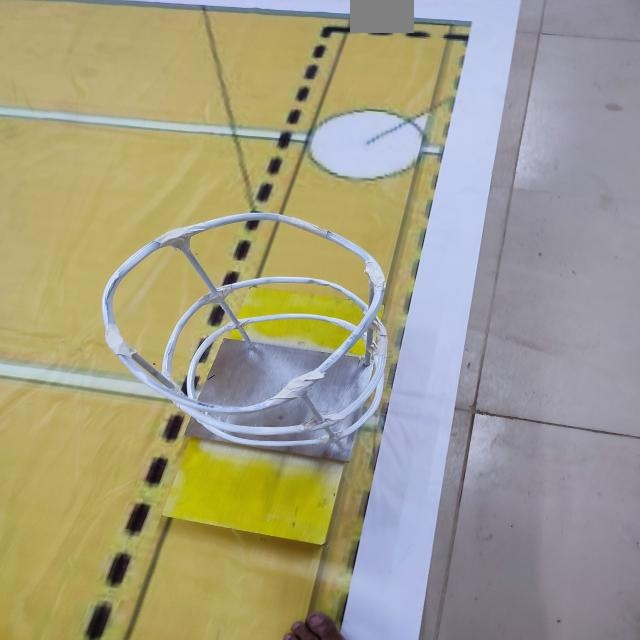silo: (73, 194, 414, 477)
